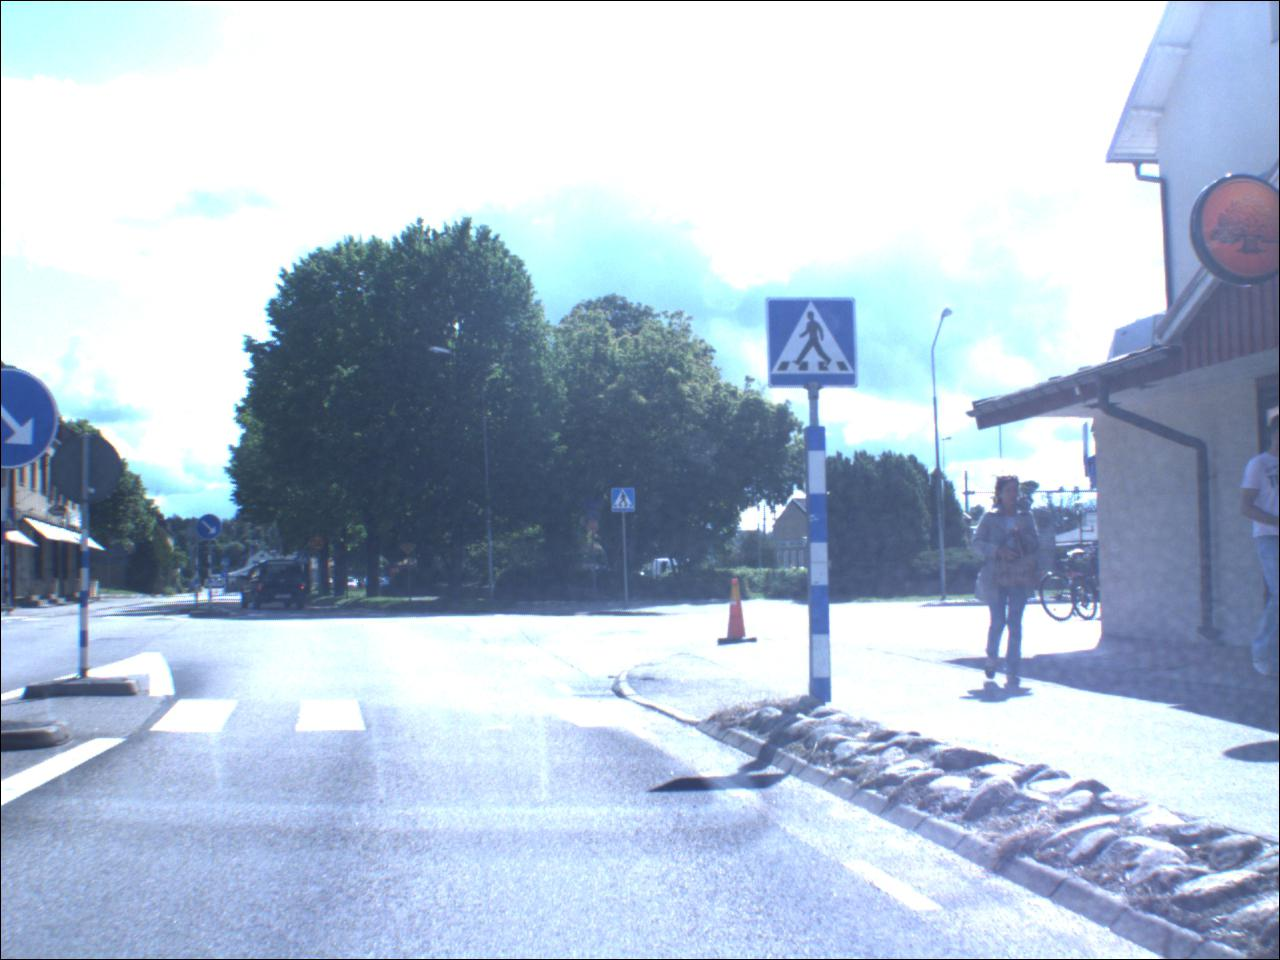50_SIGN: (312, 535, 329, 553)
PASS_RIGHT_SIDE: (3, 371, 65, 472), (199, 515, 225, 541)
PEDESTRIAN_CROSSING: (767, 299, 859, 390), (613, 490, 638, 514), (222, 559, 233, 569)
PRIORITY_ROAD: (402, 541, 420, 557)
